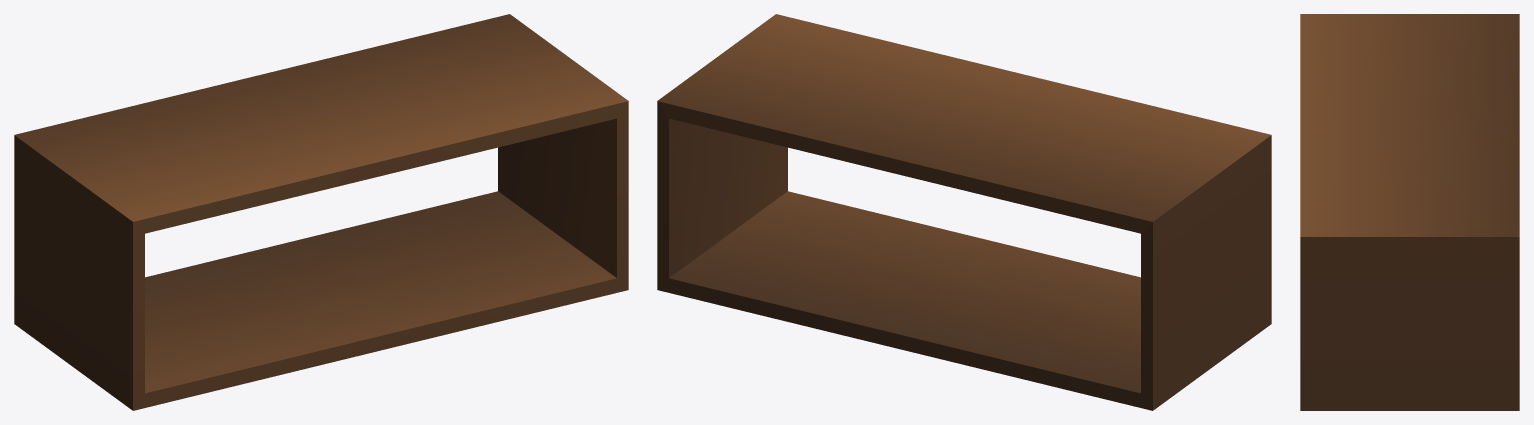
Rendered from TSP_Shelves_03A.fbx.
3 renders of one model, left to right at view 1: azimuth 30°, elevation 25°; view 2: azimuth 150°, elevation 25°; view 3: azimuth 270°, elevation 25°, orthographic. The views are drawn at different scales.
Parts seen in each view (by area): view 1: TSP_Shelves_03A; view 2: TSP_Shelves_03A; view 3: TSP_Shelves_03A.
Boxes of the visible parts, <box> form: TSP_Shelves_03A: <box>14,14,628,410</box>; TSP_Shelves_03A: <box>657,14,1271,410</box>; TSP_Shelves_03A: <box>1300,14,1519,410</box>.
Size of the model in its own units: 1.19 by 0.4335 by 0.4944.
